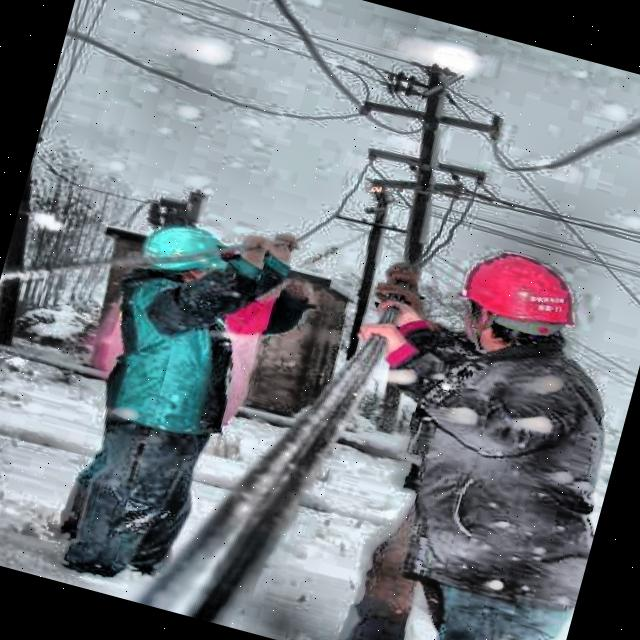helmet: (440, 235, 598, 372), (132, 214, 235, 311)
